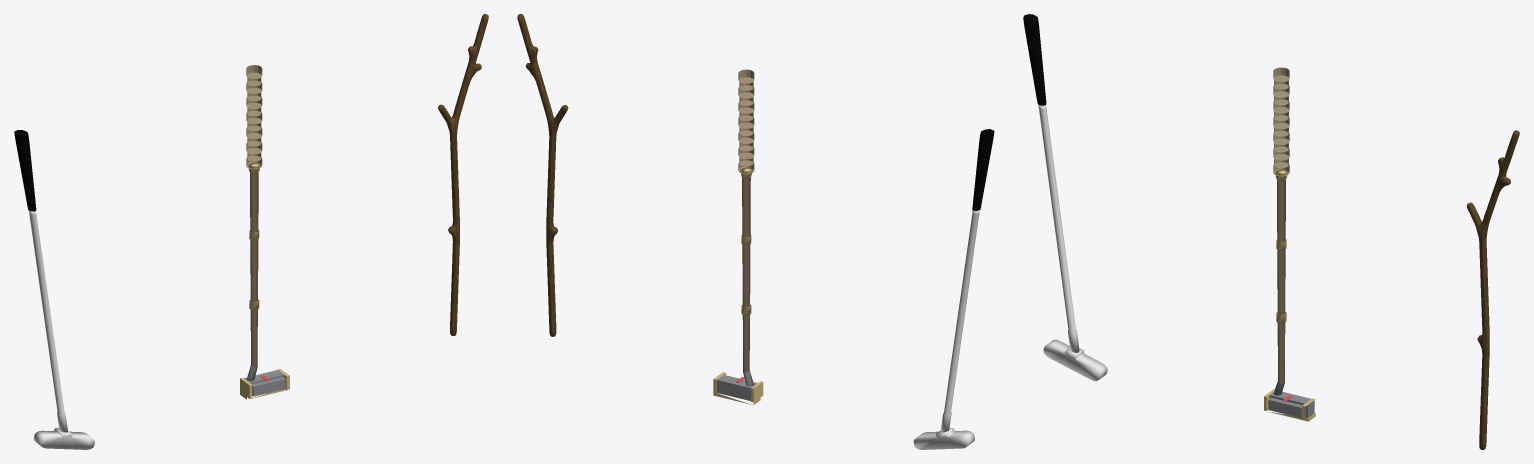
File: Clubs.glb
3 renders of one model, left to right at view 1: azimuth 30°, elevation 25°; view 2: azimuth 150°, elevation 25°; view 3: azimuth 330°, elevation 25°, orthographic. The views are drawn at different scales.
Visible parts, largest first — view 1: Clubs; view 2: Clubs; view 3: Clubs.
Boxes of the visible parts, <box> form: Clubs: <box>14,14,488,449</box>; Clubs: <box>517,14,994,449</box>; Clubs: <box>1023,14,1519,449</box>.
Size of the model in its own units: 1.42 by 0.9557 by 0.059.
Materials: 8 (1 with a texture image).
